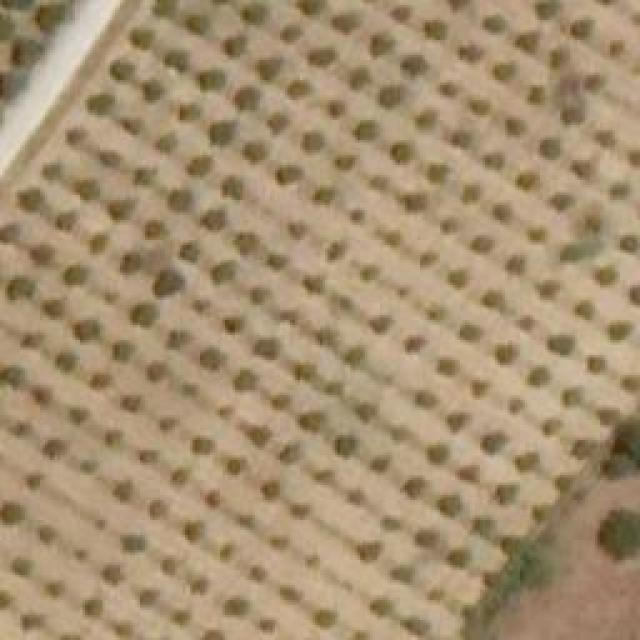Tree: (605, 510, 640, 548), (528, 547, 553, 585), (155, 267, 185, 295), (560, 240, 595, 263), (572, 296, 600, 323), (15, 188, 45, 213), (448, 543, 474, 571), (265, 247, 291, 275), (390, 560, 417, 586), (220, 33, 248, 58), (0, 500, 28, 525), (368, 310, 393, 337), (458, 320, 486, 344), (15, 40, 43, 63), (200, 210, 228, 233), (72, 320, 100, 343), (8, 275, 33, 300), (0, 365, 25, 390), (233, 368, 258, 393), (200, 490, 226, 514), (403, 333, 430, 356), (70, 178, 100, 198), (425, 298, 449, 323), (473, 513, 498, 537), (619, 369, 640, 397), (515, 30, 540, 53), (400, 55, 425, 78), (255, 58, 280, 81), (233, 88, 258, 111), (165, 48, 188, 73), (185, 13, 210, 36), (240, 3, 265, 26), (88, 90, 113, 113), (118, 250, 143, 273), (133, 303, 158, 326), (200, 345, 223, 370), (248, 423, 273, 446), (585, 350, 611, 372), (207, 123, 235, 143), (197, 70, 225, 90), (185, 155, 213, 175), (275, 165, 303, 185), (107, 200, 135, 220), (252, 338, 280, 358), (278, 443, 302, 466), (360, 263, 383, 287), (437, 353, 459, 378), (538, 415, 563, 437), (308, 47, 338, 65), (235, 233, 258, 256), (158, 415, 182, 437), (138, 447, 162, 469), (415, 250, 435, 276), (505, 393, 527, 416), (560, 383, 583, 405), (448, 268, 471, 290), (190, 435, 213, 457), (223, 455, 246, 477), (553, 470, 575, 493), (115, 115, 143, 133), (210, 262, 238, 280), (87, 372, 115, 390), (38, 5, 63, 25), (110, 60, 135, 80), (243, 143, 268, 163), (223, 175, 243, 200), (30, 245, 55, 265), (55, 350, 80, 370), (165, 330, 190, 350), (610, 455, 635, 475), (468, 375, 490, 397), (168, 468, 190, 490), (620, 230, 640, 254), (80, 457, 102, 478), (460, 43, 483, 63), (370, 35, 393, 55), (355, 120, 378, 140), (390, 143, 413, 163), (130, 28, 153, 48), (133, 165, 156, 185), (168, 190, 191, 210), (178, 240, 201, 260), (53, 210, 76, 230), (40, 300, 63, 320), (30, 385, 50, 408), (113, 340, 136, 360), (148, 360, 168, 383), (63, 267, 88, 285), (560, 105, 585, 123), (298, 0, 328, 15), (345, 207, 367, 227), (300, 132, 323, 150), (145, 220, 168, 238), (18, 330, 41, 348), (223, 315, 246, 333), (118, 395, 141, 413), (103, 427, 126, 445), (10, 557, 33, 575), (300, 412, 323, 430), (515, 452, 538, 470), (570, 440, 593, 458), (0, 75, 20, 95), (425, 18, 445, 38), (495, 60, 515, 80), (380, 88, 400, 108), (348, 68, 368, 88), (268, 113, 288, 133), (88, 233, 108, 253), (277, 308, 298, 327), (607, 40, 628, 58), (330, 15, 355, 30), (153, 0, 178, 15), (120, 535, 145, 550), (548, 338, 573, 353), (570, 20, 590, 38), (485, 15, 505, 33), (418, 110, 438, 128), (452, 130, 470, 150), (143, 82, 163, 100), (65, 127, 85, 145), (100, 150, 120, 168), (70, 405, 90, 423), (25, 473, 43, 493), (83, 600, 103, 618), (103, 565, 123, 583), (440, 495, 460, 513), (45, 440, 65, 458), (483, 432, 503, 450), (550, 192, 570, 210), (518, 170, 538, 188), (540, 138, 558, 158), (573, 160, 593, 178), (288, 80, 311, 95), (335, 155, 358, 170), (178, 103, 201, 118), (20, 613, 43, 628), (445, 415, 468, 430), (527, 85, 545, 103), (327, 100, 345, 118), (155, 135, 173, 153), (182, 522, 200, 540), (115, 480, 133, 498), (150, 500, 168, 518), (405, 477, 423, 495), (527, 367, 545, 385), (595, 130, 613, 148), (538, 3, 558, 18), (470, 100, 490, 115), (43, 163, 63, 178), (193, 298, 213, 313), (0, 588, 15, 608), (315, 610, 335, 625), (315, 330, 335, 345), (333, 295, 353, 310), (498, 343, 513, 363), (540, 283, 560, 298), (473, 235, 493, 250), (600, 408, 620, 423), (608, 323, 628, 338), (598, 268, 618, 283), (440, 218, 460, 233), (370, 175, 390, 190), (313, 188, 333, 203), (288, 223, 308, 238), (628, 283, 640, 308), (553, 47, 568, 65), (280, 25, 298, 40), (0, 225, 18, 240), (13, 420, 28, 438), (40, 525, 55, 543), (47, 583, 65, 598), (115, 620, 130, 638), (337, 438, 355, 453), (360, 545, 378, 560), (355, 405, 373, 420), (417, 530, 435, 545), (372, 600, 390, 615), (485, 293, 503, 308), (392, 425, 410, 440), (405, 195, 423, 210), (382, 230, 400, 245), (610, 183, 628, 198), (585, 215, 600, 233), (585, 73, 603, 88), (627, 148, 639, 167), (395, 8, 410, 23), (438, 83, 453, 98), (140, 590, 155, 605), (263, 483, 278, 498), (298, 365, 313, 380), (505, 538, 520, 553), (500, 485, 515, 500), (253, 288, 268, 303), (305, 278, 320, 293), (328, 243, 343, 258), (345, 350, 360, 365), (418, 390, 433, 405), (533, 505, 548, 520), (508, 118, 523, 133), (430, 165, 445, 180), (493, 205, 508, 220)
